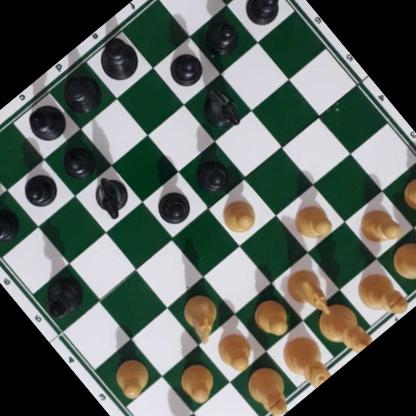black-bishop: (33, 269, 91, 326), (19, 95, 73, 148)
black-king: (88, 28, 148, 90)
black-knight: (192, 81, 245, 136), (85, 170, 134, 220)
black-pawn: (186, 151, 234, 200), (197, 14, 244, 61), (149, 182, 196, 229), (161, 44, 207, 91), (16, 168, 62, 214), (54, 138, 99, 183), (237, 0, 287, 32), (0, 201, 23, 248)
black-queen: (54, 67, 108, 121)
white-bishop: (349, 266, 410, 328), (239, 360, 301, 416)
white-king: (309, 294, 376, 364)
white-knight: (278, 260, 342, 327), (171, 287, 227, 344)
white-pawn: (287, 197, 337, 248), (105, 352, 155, 402), (246, 293, 295, 344), (171, 358, 220, 408), (210, 327, 259, 377), (214, 192, 261, 239), (395, 167, 416, 219)
white-queen: (273, 328, 338, 395)
white-rook: (385, 230, 416, 298)
